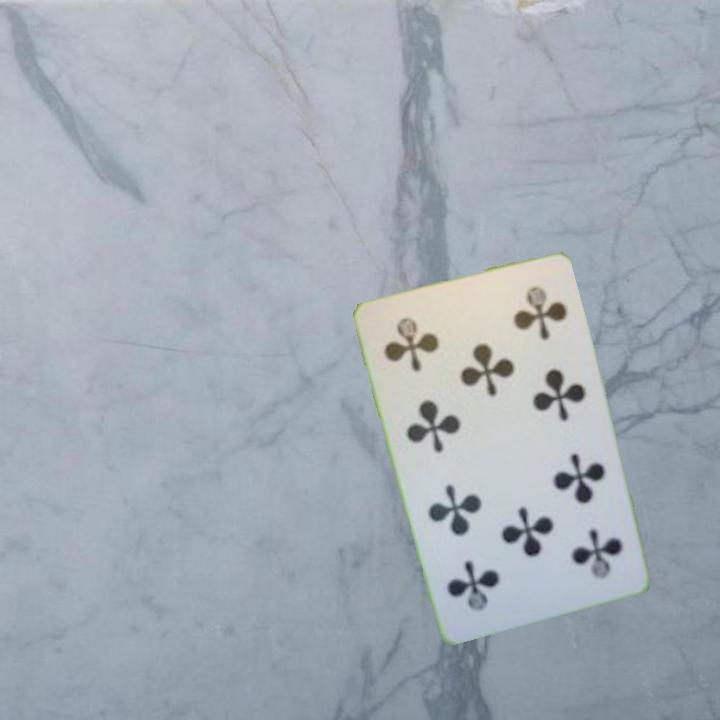c_10.png: (522, 494, 640, 602), (369, 291, 487, 399)
